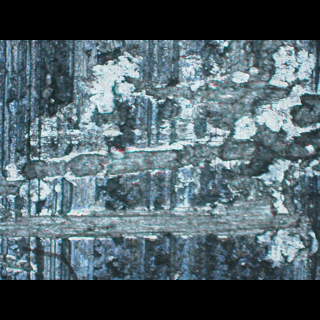d: (1, 45, 316, 190), (0, 199, 312, 244)
